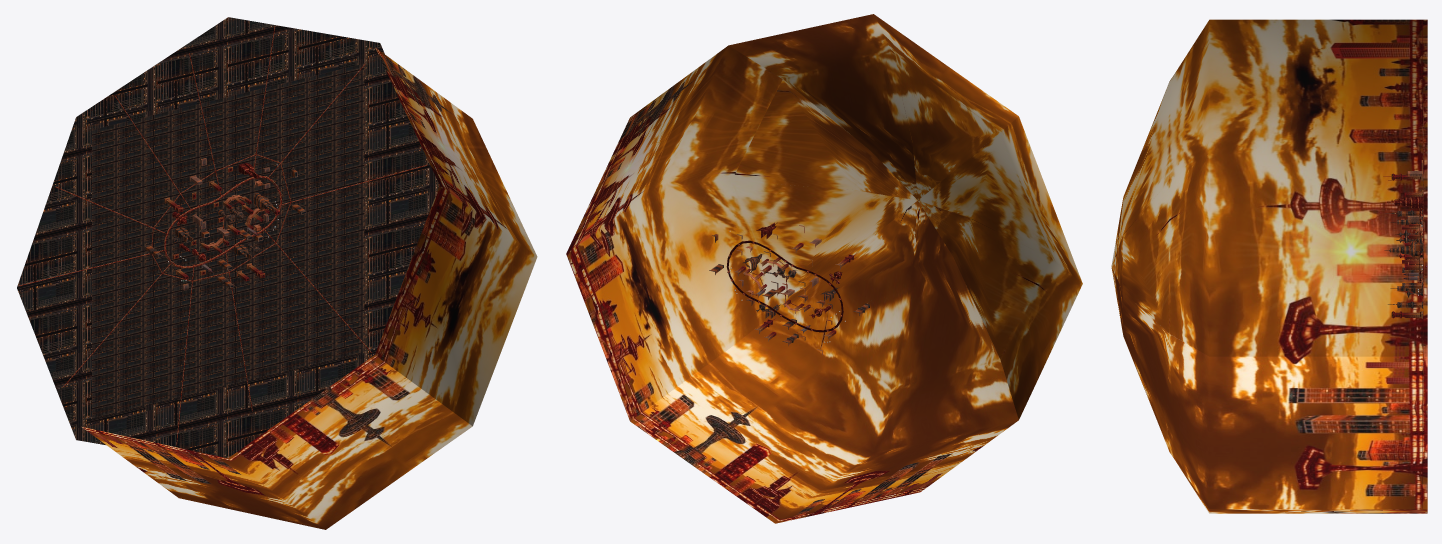
3 views of the same model, side by side, from view 1: azimuth 30°, elevation 25°; view 2: azimuth 150°, elevation 25°; view 3: azimuth 270°, elevation 25° (orthographic). The views are drawn at different scales.
Parts seen in each view (by area): view 1: Rectangle01, skbox, bridge2bg-25; view 2: skbox, bridge2bg-25; view 3: skbox.
Boxes of the visible parts, x1=… form: Rectangle01: x1=17, y1=17, x2=439, y2=458; skbox: x1=81, y1=47, x2=537, y2=529; bridge2bg-25: x1=164, y1=175, x2=282, y2=268; skbox: x1=566, y1=14, x2=1082, y2=523; bridge2bg-25: x1=726, y1=240, x2=843, y2=332; skbox: x1=1111, y1=19, x2=1427, y2=513.
Bounding box in the file's own units: 166 × 169 × 98.2.
167 materials, 147 textured.
